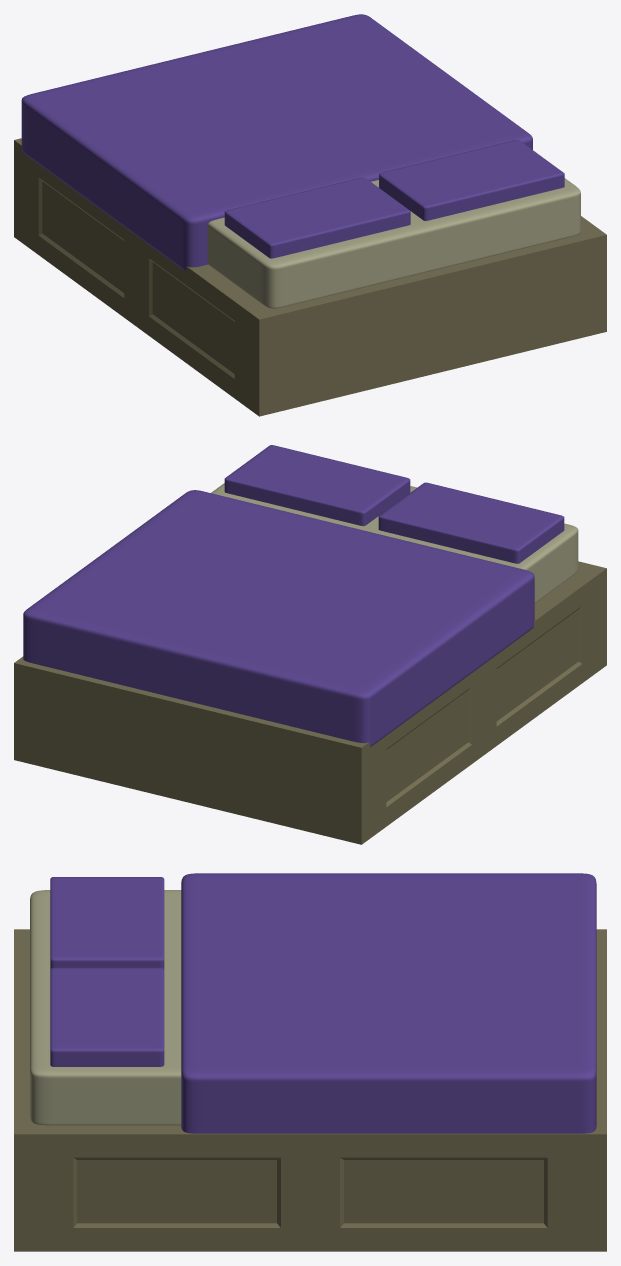
The model's file is Bed.fbx.
3 renders of one model, top to bottom at view 1: azimuth 30°, elevation 25°; view 2: azimuth 150°, elevation 25°; view 3: azimuth 270°, elevation 25°, orthographic. The views are drawn at different scales.
Parts seen in each view (by area): view 1: Bed Sheets, Bed Base, Mattress, Pillow #2, Pillow #1; view 2: Bed Sheets, Bed Base, Pillow #2, Pillow #1, Mattress; view 3: Bed Sheets, Bed Base, Mattress, Pillow #1, Pillow #2.
Part boxes in pixels (box(x1,y1,x2,y2)): Bed Sheets: box(21, 14, 532, 270); Bed Base: box(14, 138, 606, 416); Mattress: box(207, 178, 580, 308); Pillow #2: box(224, 177, 410, 258); Pillow #1: box(379, 140, 564, 220); Bed Sheets: box(23, 490, 534, 746); Bed Base: box(14, 561, 606, 844); Pillow #2: box(378, 482, 564, 563); Pillow #1: box(224, 445, 410, 526); Mattress: box(211, 483, 578, 603); Bed Sheets: box(181, 873, 596, 1133); Bed Base: box(14, 929, 606, 1251); Mattress: box(30, 890, 181, 1125); Pillow #1: box(50, 967, 164, 1066); Pillow #2: box(50, 877, 164, 969).
Size of the model in its own units: 45.07 by 19.04 by 55.
